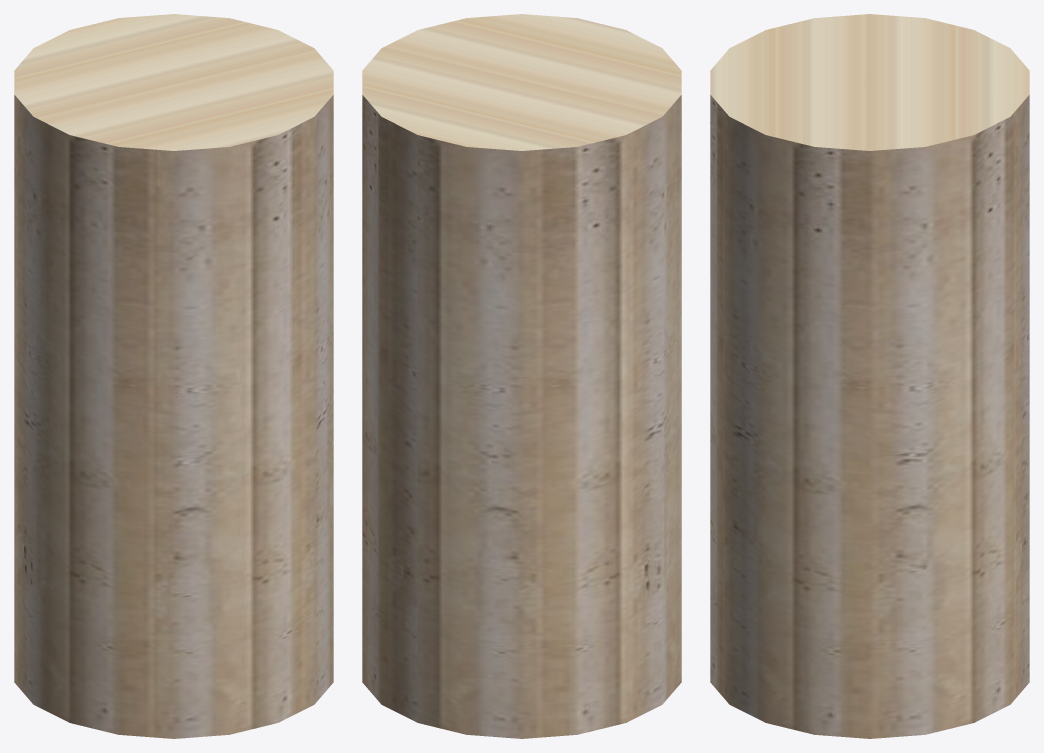
File: Column.FBX
The picture shows the model from 3 angles, left to right: view 1: azimuth 30°, elevation 25°; view 2: azimuth 150°, elevation 25°; view 3: azimuth 270°, elevation 25°; orthographic projection.
Visible parts, largest first — view 1: Cylinder001; view 2: Cylinder001; view 3: Cylinder001.
Boxes of the visible parts, x1=… form: Cylinder001: x1=14, y1=14, x2=333, y2=738; Cylinder001: x1=362, y1=14, x2=681, y2=738; Cylinder001: x1=710, y1=14, x2=1029, y2=738.
Size of the model in its own units: 20 by 40 by 19.7.
